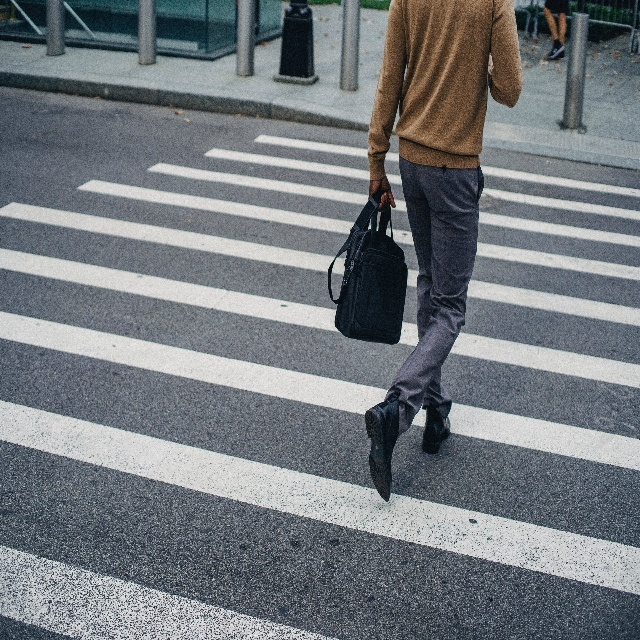Sin_guantes: (368, 175, 397, 211)
